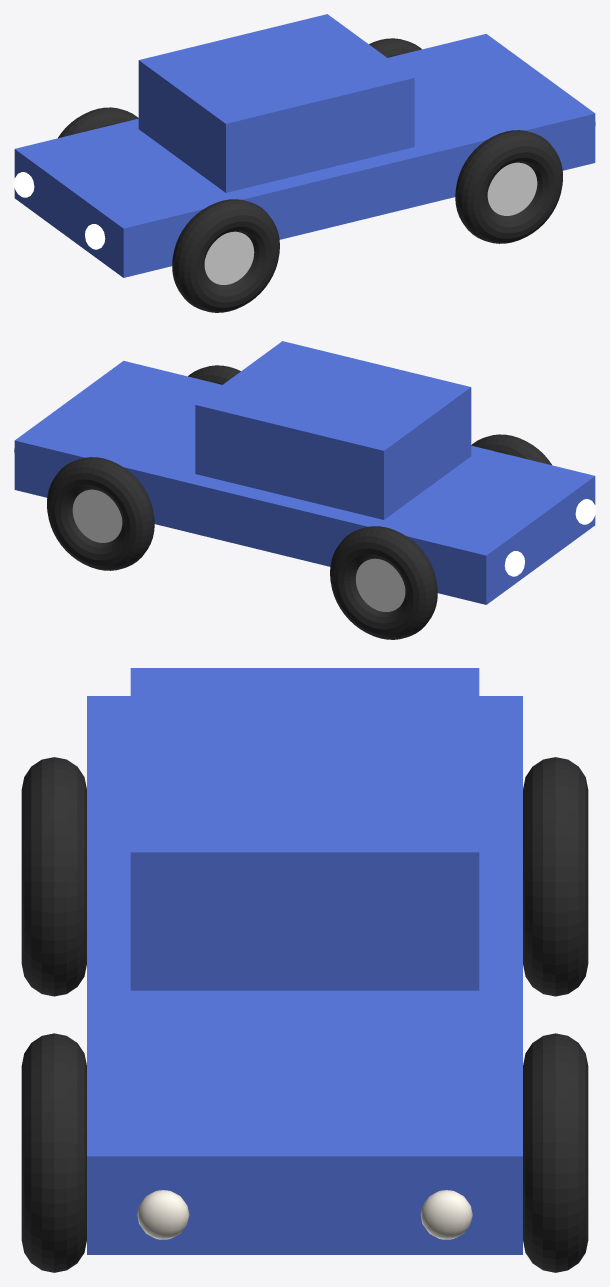
3 views of the same model, one above another, from view 1: azimuth 30°, elevation 25°; view 2: azimuth 150°, elevation 25°; view 3: azimuth 270°, elevation 25° (orthographic). The views are drawn at different scales.
Parts seen in each view (by area): view 1: SportsCar; view 2: SportsCar; view 3: SportsCar.
Part boxes in pixels (x1,y1,x2,y2): SportsCar: (14, 14, 595, 312); SportsCar: (14, 341, 595, 639); SportsCar: (21, 668, 588, 1272).
Size of the model in its own units: 5.37 by 1.7 by 2.6.
